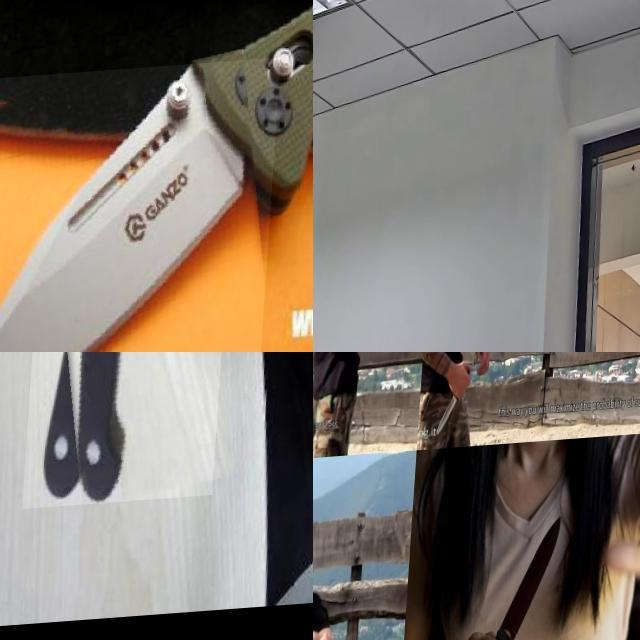-: (0, 63, 284, 352), (30, 352, 247, 606), (475, 519, 572, 640), (438, 367, 480, 442), (313, 352, 337, 361)
gun-knife-thesis - v11 Yolov5 augmented: (313, 164, 348, 307)
